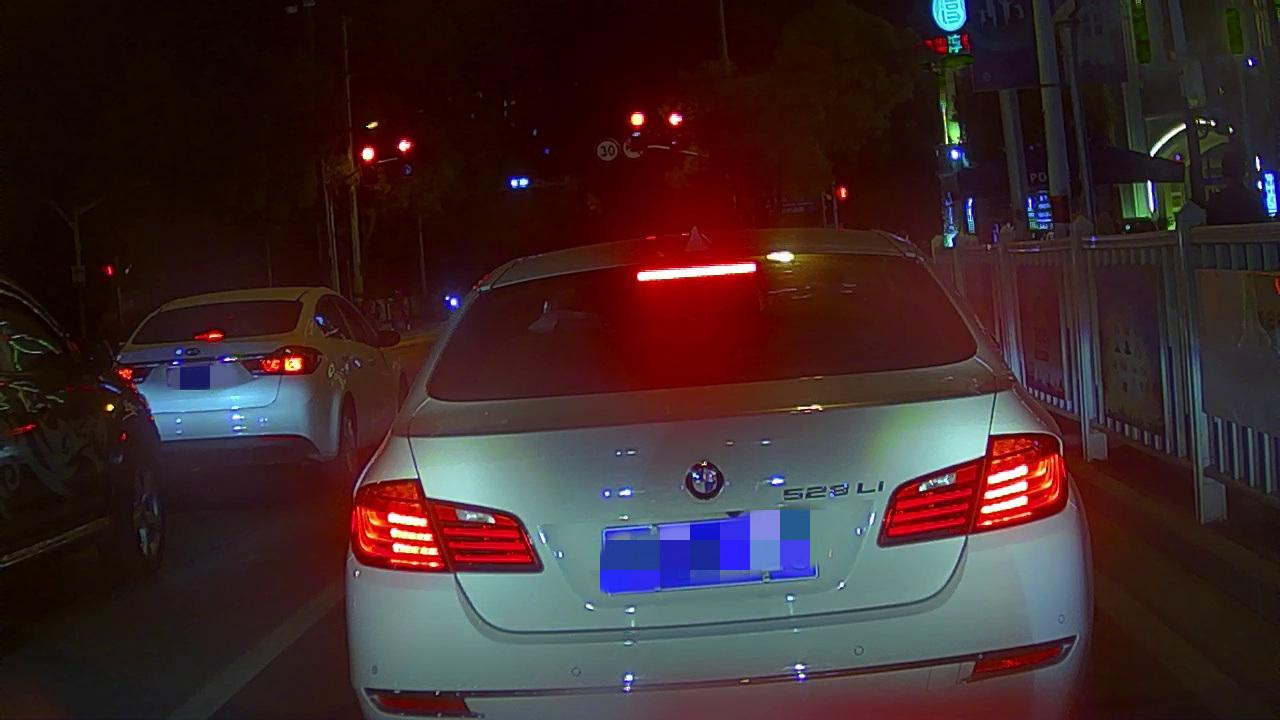traffic_light: (626, 103, 648, 130), (357, 141, 379, 165), (394, 134, 413, 161), (666, 107, 685, 133)
